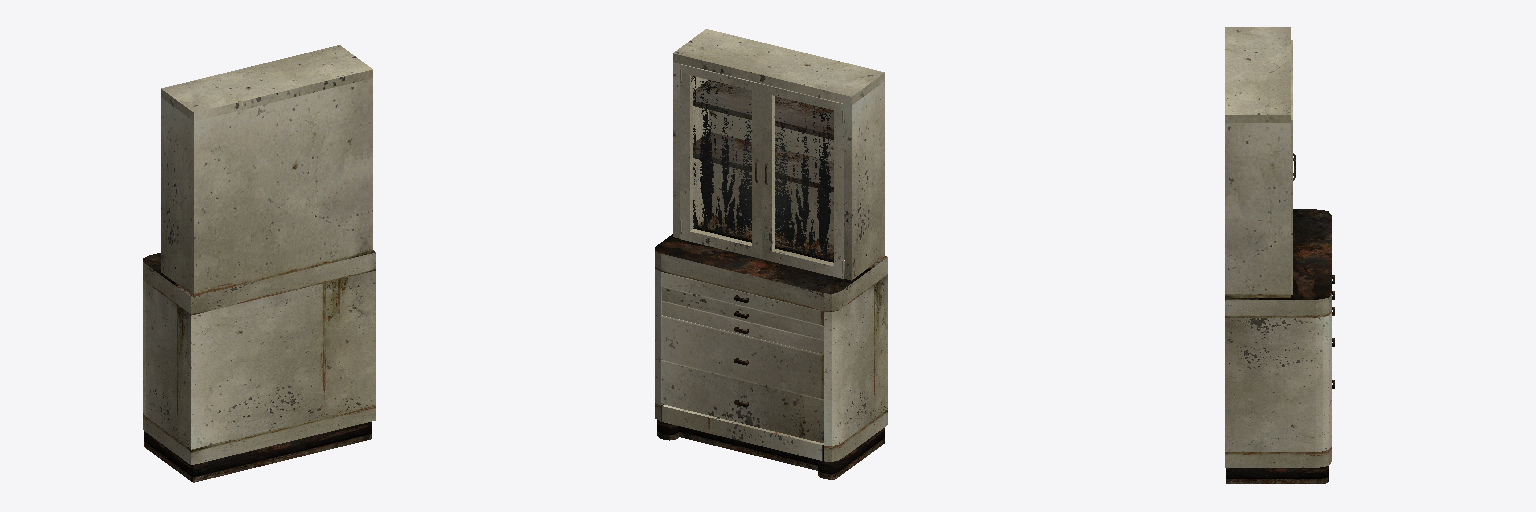
3 views of the same model, side by side, from view 1: azimuth 30°, elevation 25°; view 2: azimuth 150°, elevation 25°; view 3: azimuth 270°, elevation 25° (orthographic).
Visible parts, largest first — view 1: bio_medcabinet; view 2: bio_medcabinet; view 3: bio_medcabinet.
Part boxes in pixels (x1,y1,x2,y2): bio_medcabinet: (143,45,375,482); bio_medcabinet: (655,29,887,479); bio_medcabinet: (1225,27,1334,483).
Bounding box in the file's own units: 66.94 × 128 × 34.78.
2 materials, 2 textured.